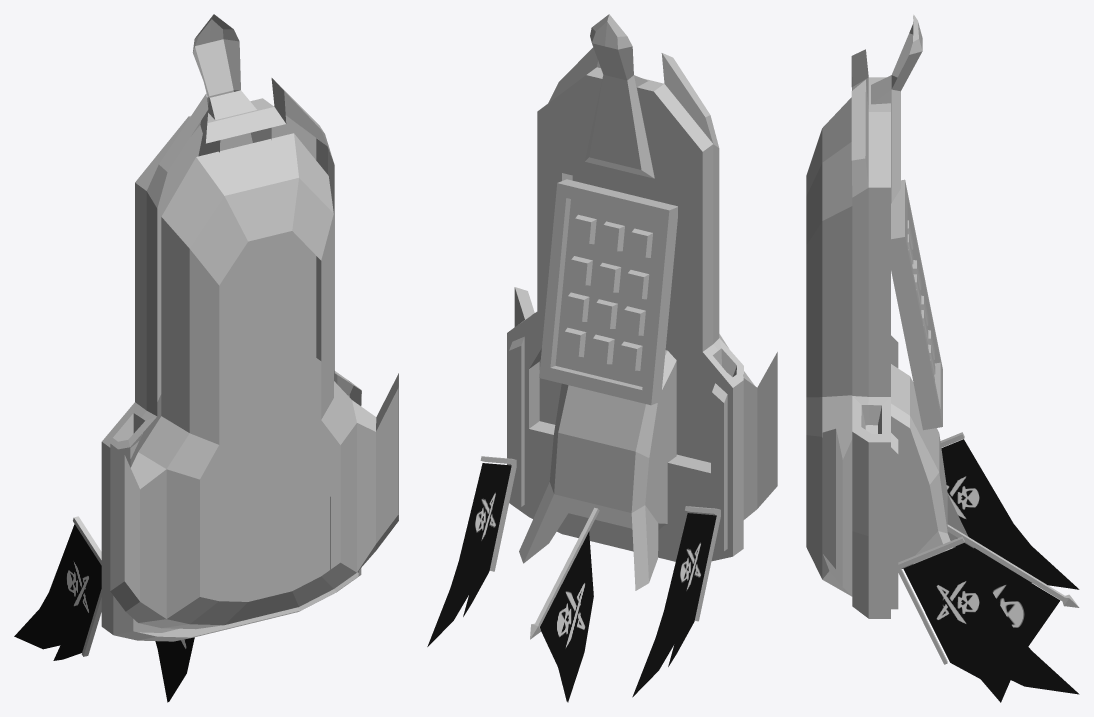
The model's file is pirate_multi_my_1.fbx.
3 renders of one model, left to right at view 1: azimuth 30°, elevation 25°; view 2: azimuth 150°, elevation 25°; view 3: azimuth 270°, elevation 25°, orthographic. The views are drawn at different scales.
Visible parts, largest first — view 1: Cube.353; view 2: Cube.353; view 3: Cube.353.
Part boxes in pixels (<box>): Cube.353: <box>14,14,398,702</box>; Cube.353: <box>427,14,777,702</box>; Cube.353: <box>806,14,1079,702</box>.
Bounding box in the file's own units: 343 × 820 × 295.
